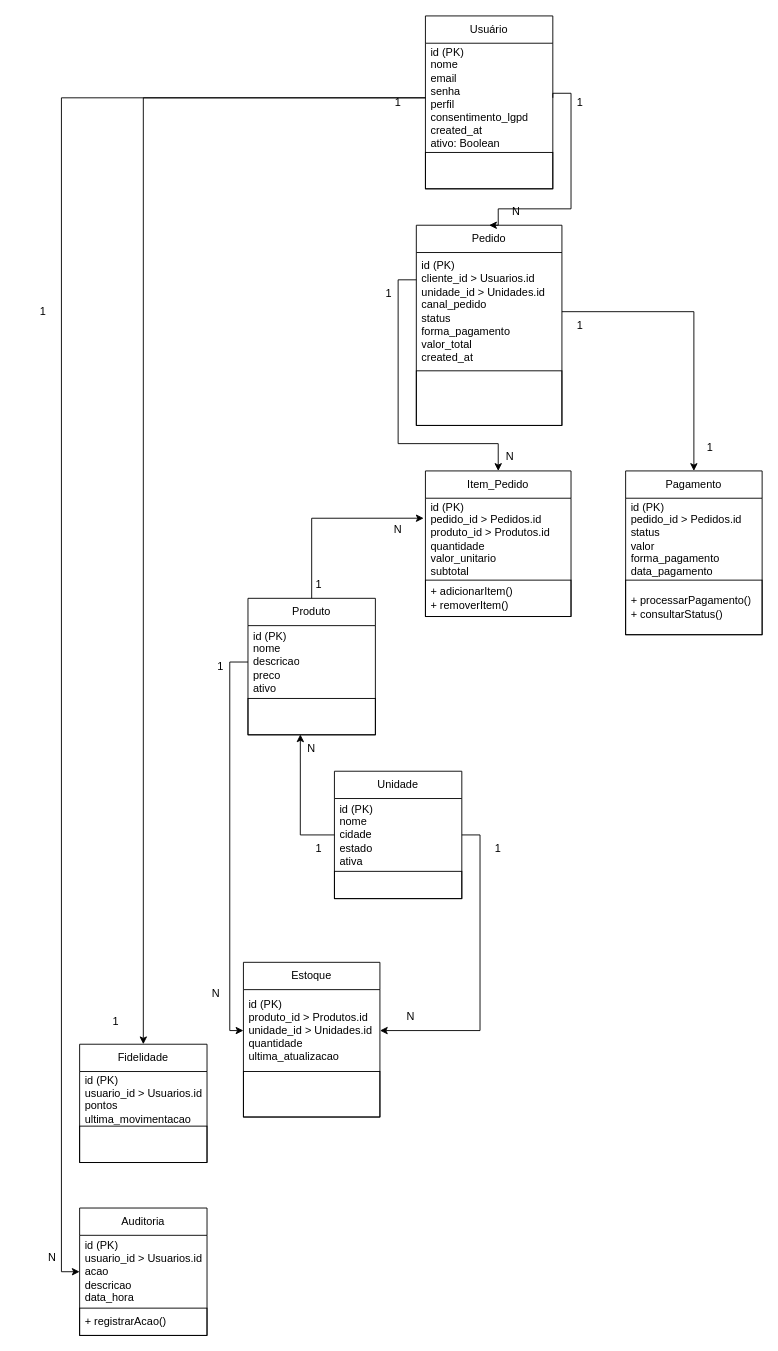
The diagram is 778 pixels wide and 1351 high, and some of its shapes have lost their labels. The centre of each missing label's shape, as x and y in pixels:
"+ adicionarPontos() + consultarPontos()" goes at point 143,1144.
"+ cadastrar() + consultar()" goes at point 311,716.
"+ cadastrar() + login()" goes at point 489,170.
"+ consultar()" goes at point 398,884.
"+ consultarEstoque() + atualizarQuantidade()" goes at point 311,1094.
"+ criarPedido() + atualizarStatus() + calcularTotal()" goes at point 488,397.
